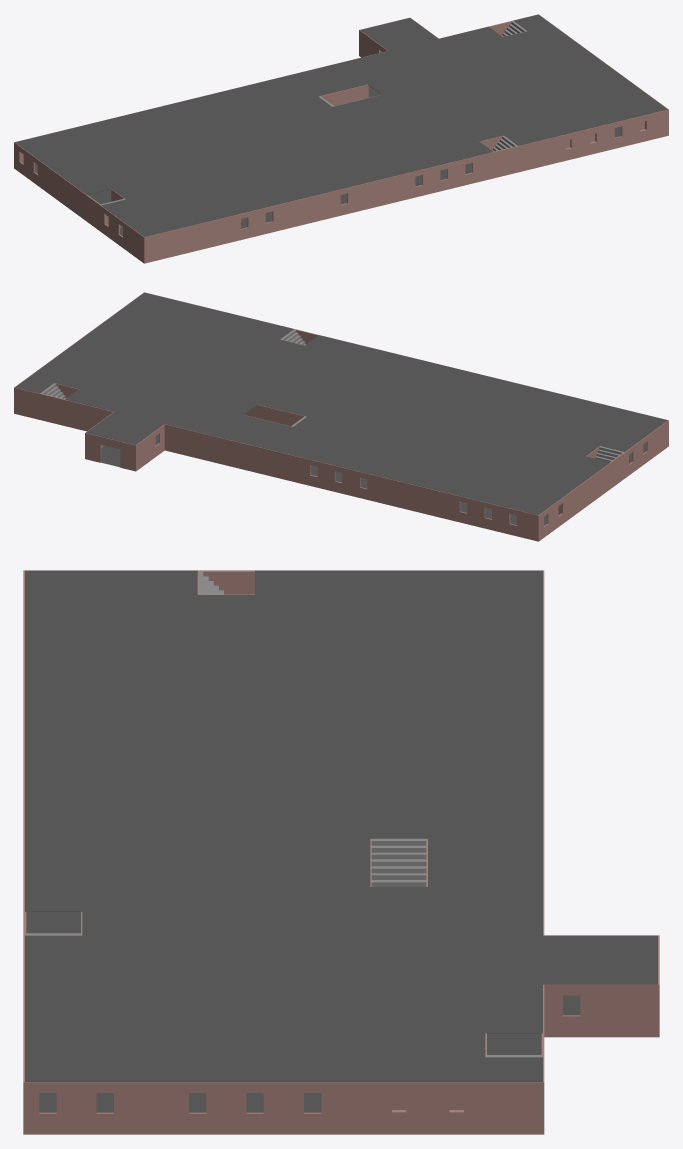
Rendered from Level3Blocking.fbx.
3 renders of one model, top to bottom at view 1: azimuth 30°, elevation 25°; view 2: azimuth 150°, elevation 25°; view 3: azimuth 270°, elevation 25°, orthographic. The views are drawn at different scales.
Visible parts, largest first — view 1: FloorLevel2, Walls, FloorLevel1, Stairs; view 2: FloorLevel2, Walls, FloorLevel1, Stairs; view 3: FloorLevel2, Walls, FloorLevel1, Stairs.
Part boxes in pixels (bbox=[...]): FloorLevel2: bbox=[15, 14, 667, 236]; Walls: bbox=[14, 14, 668, 263]; FloorLevel1: bbox=[35, 51, 621, 235]; Stairs: bbox=[100, 21, 526, 205]; FloorLevel2: bbox=[15, 292, 667, 514]; Walls: bbox=[14, 292, 668, 541]; FloorLevel1: bbox=[101, 434, 646, 525]; Stairs: bbox=[40, 329, 623, 462]; FloorLevel2: bbox=[25, 570, 657, 1081]; Walls: bbox=[23, 570, 659, 1134]; FloorLevel1: bbox=[26, 911, 580, 1112]; Stairs: bbox=[25, 571, 542, 1057].
Size of the model in its own units: 210 by 110 by 10.05.
